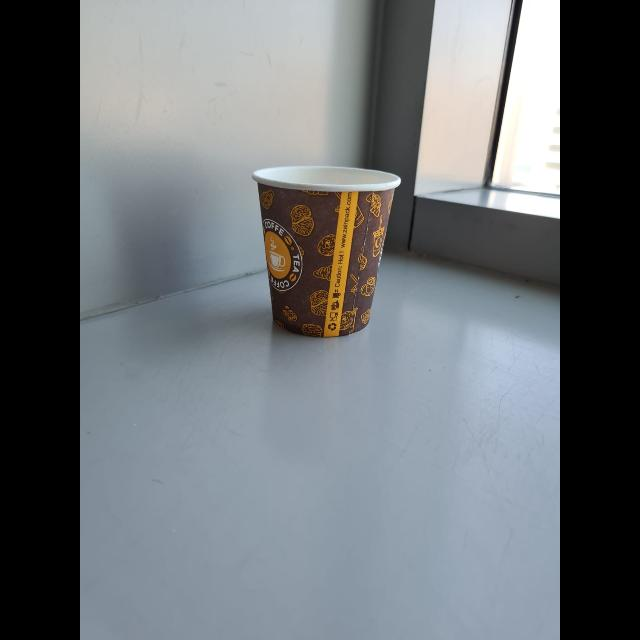trash: (252, 163, 400, 339)
